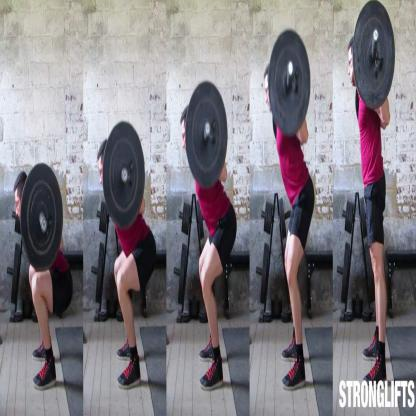Barbell: (18, 152, 67, 280), (183, 72, 231, 192), (349, 0, 399, 114), (101, 114, 147, 232), (267, 25, 312, 139)
